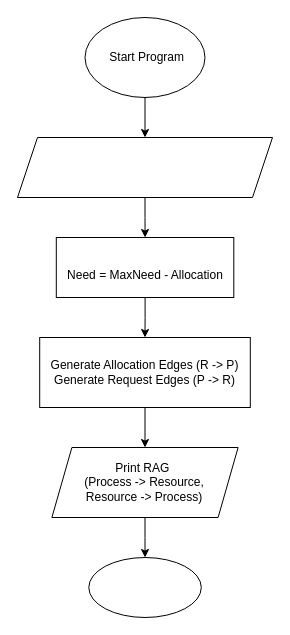
This 290x635 diagram has some shape labels left out. The shapes that lost their labels are listed below. From the top down, each one's centre as x and y in pixels, then its label:
At point (144, 167): "Input Allocation, Max Need, Available".
At point (144, 587): "END".
